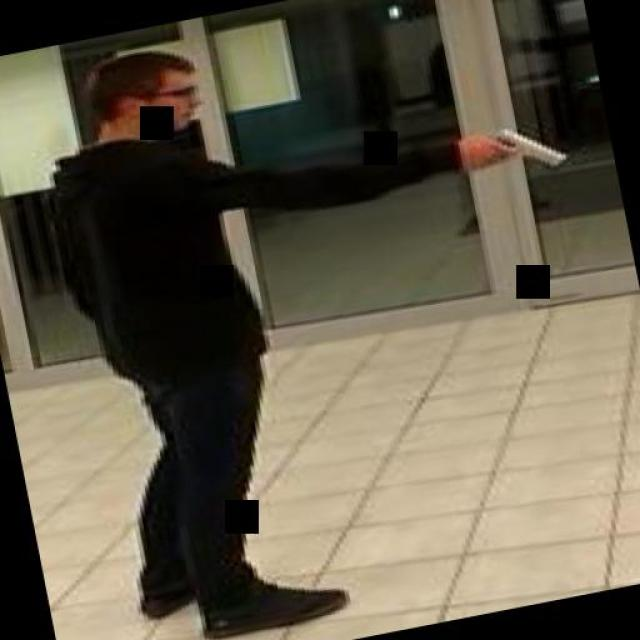gun: (465, 112, 567, 184)
